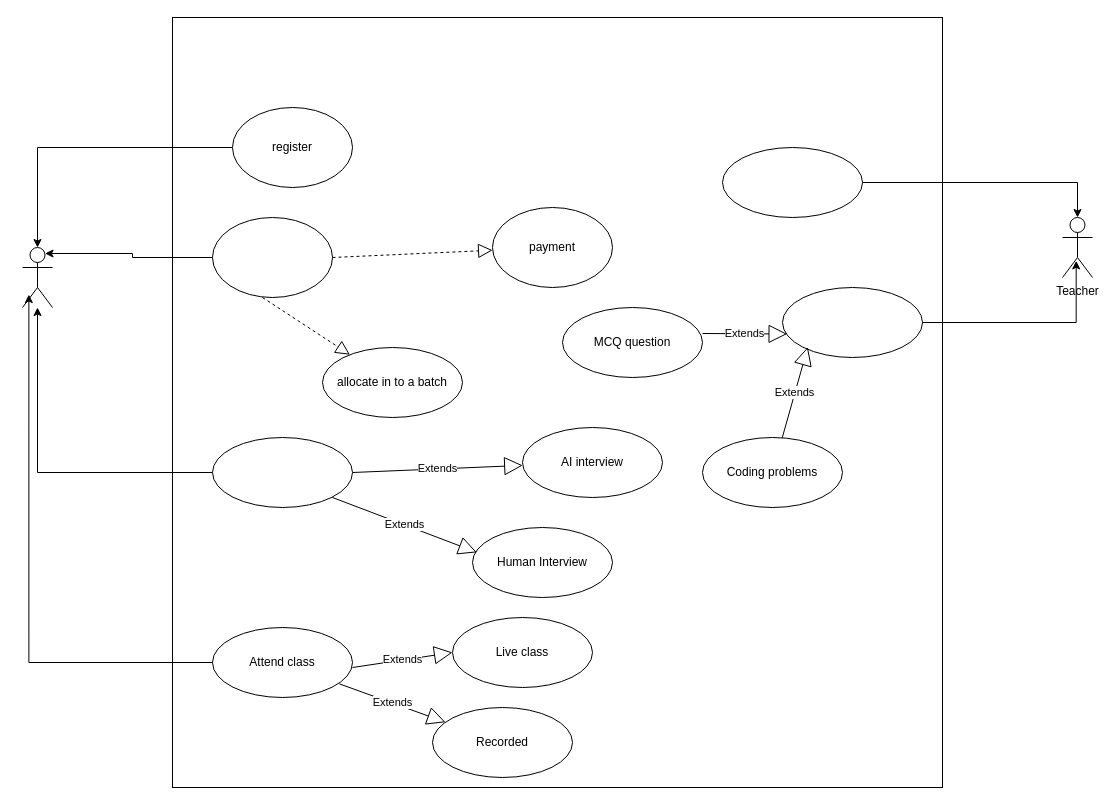
Some shapes in this 1116 by 805 pixel diagram are drawn without their labels. The centre of each missing label's shape, as x and y in pixels:
Arrange Test: the point at 852,322
Attend contest: the point at 282,472
choose course: the point at 272,257
Conduct class: the point at 792,182
Student: the point at 37,277
